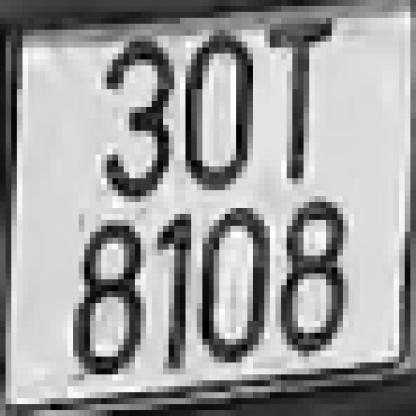0: (202, 208, 264, 357), (186, 36, 242, 190)
1: (158, 208, 202, 363)
3: (106, 42, 168, 196)
8: (73, 220, 146, 368), (275, 202, 343, 345)
T: (259, 24, 326, 178)
